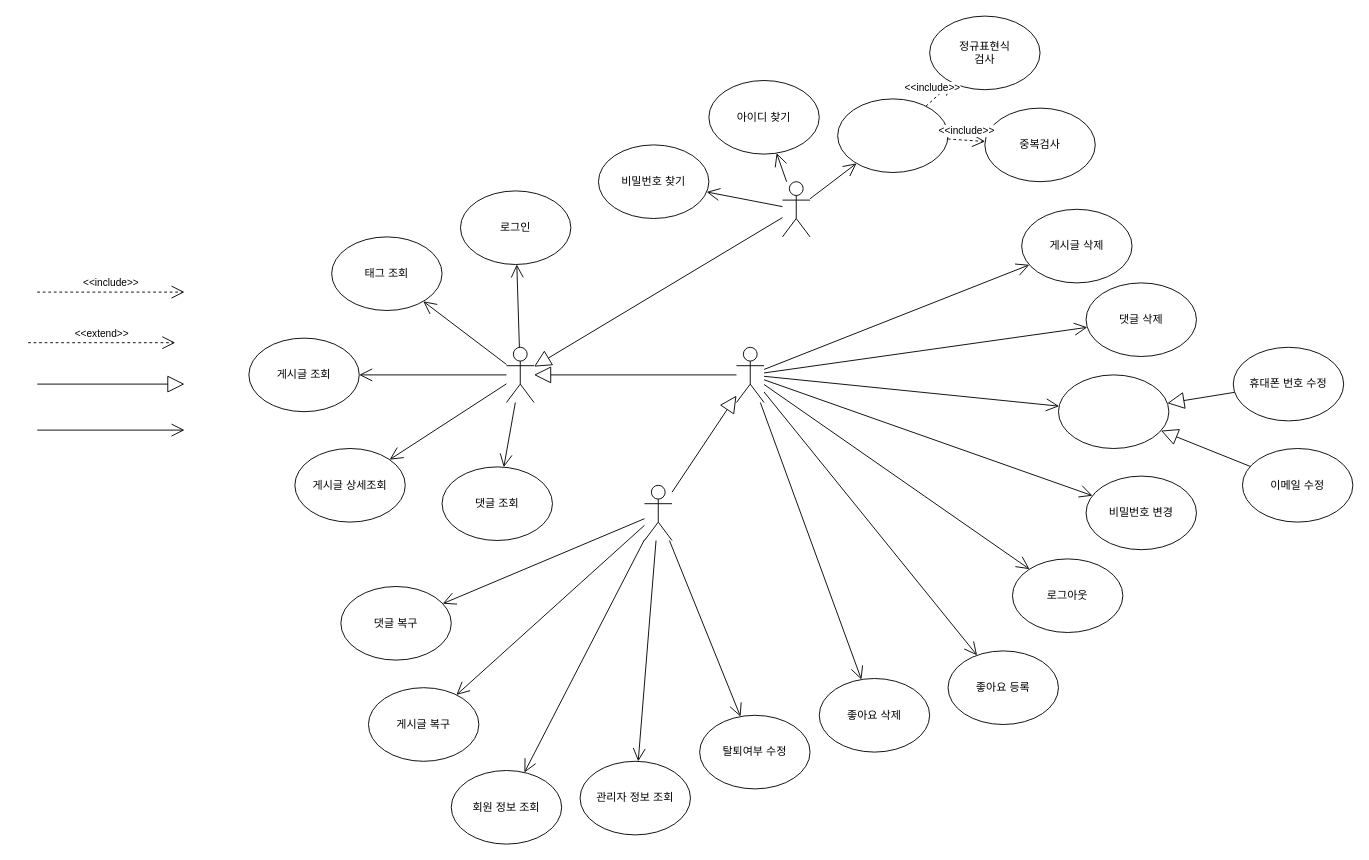
Some shapes in this 1369 by 860 pixel diagram are drawn without their labels. The shapes that lost their labels are listed below. From the top down, each one's box as (x1, y1, x2, y2) in pixels, then its label:
(837, 98, 948, 172): 회원가입
(782, 181, 810, 237): 비회원
(506, 346, 534, 402): 홈페이지 이용자
(736, 346, 764, 402): 회원
(1058, 374, 1169, 448): 회원정보수정
(644, 484, 672, 540): 관리자
